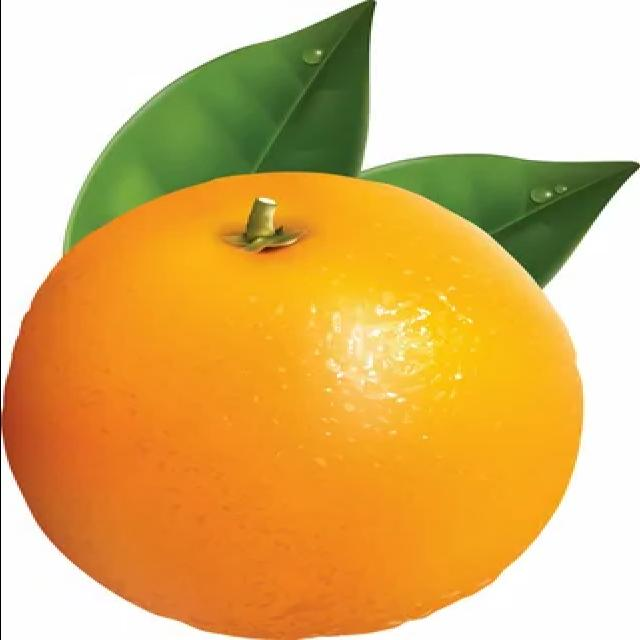orange: (0, 172, 592, 640)
